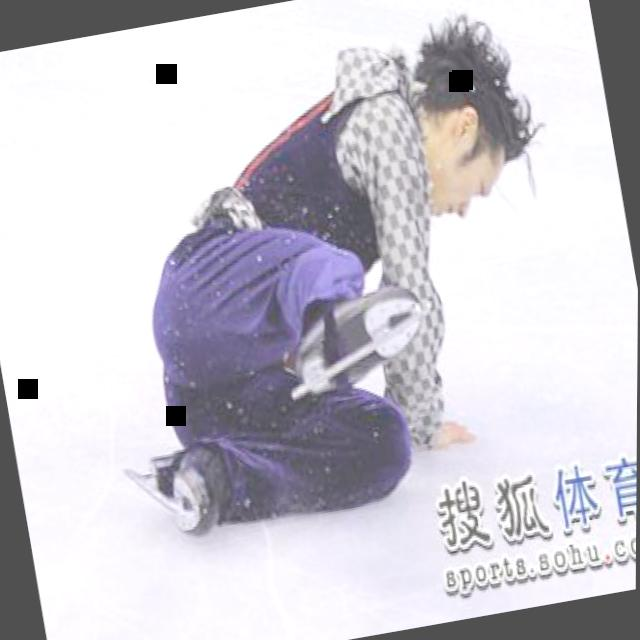Fall-Detected: (63, 0, 597, 541)
